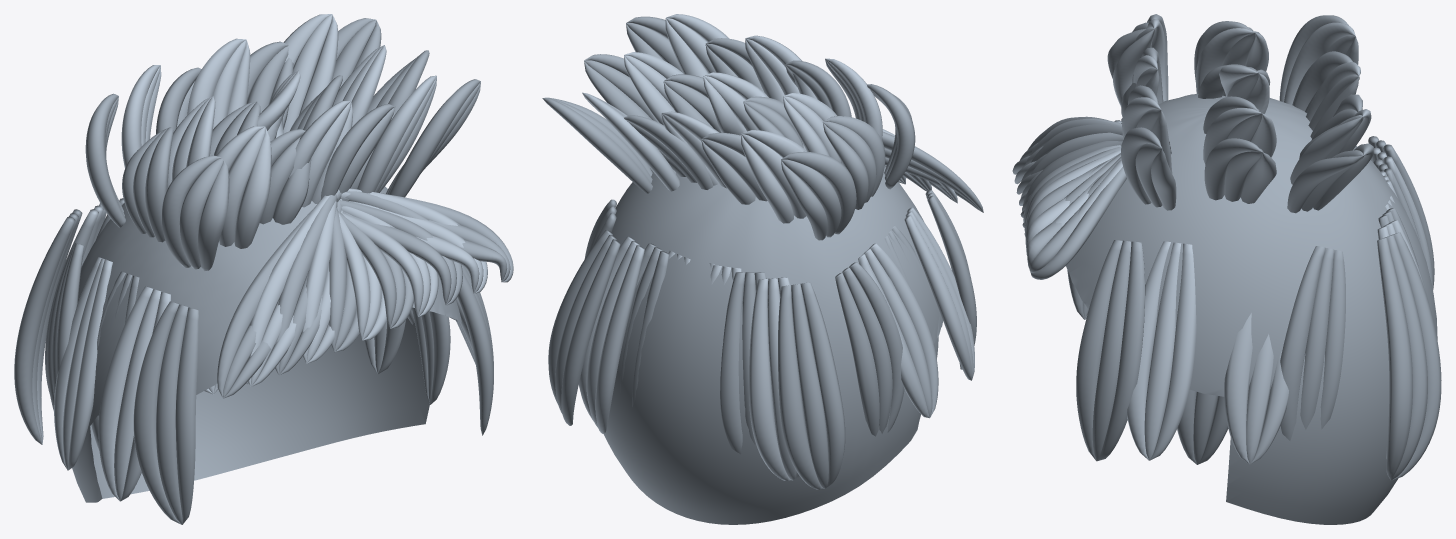
3 renders of one model, left to right at view 1: azimuth 30°, elevation 25°; view 2: azimuth 150°, elevation 25°; view 3: azimuth 270°, elevation 25°, orthographic. The views are drawn at different scales.
Parts seen in each view (by area): view 1: CrownHair_male_ref18, SideHair_-1_0_Strand2, BackHair_00_Strand0, SideHair_-1_0_Strand1, SideHair_-1_0_Strand0, SideHair_-1_1_Strand2, SideHair_-1_1_Strand1, SideHair_-1_3_Strand0, CrownHair_Spike_0_6_Strand0, FrontHair_Sweep_00_Strand2, SideHair_1_0_Strand2, CrownHair_Spike_2_0_Strand2 (+75 smaller); view 2: CrownHair_male_ref18, BackHair_00_Strand2, BackHair_01_Strand2, BackHair_00_Strand1, BackHair_00_Strand0, BackHair_07_Strand0, BackHair_08_Strand0, BackHair_02_Strand2, SideHair_-1_4_Strand2, SideHair_-1_1_Strand2, SideHair_-1_4_Strand1, SideHair_-1_4_Strand0 (+59 smaller); view 3: CrownHair_male_ref18, BackHair_08_Strand2, SideHair_1_0_Strand0, SideHair_1_1_Strand0, SideHair_1_0_Strand2, SideHair_1_1_Strand1, SideHair_1_0_Strand1, SideHair_1_4_Strand2, BackHair_08_Strand0, BackHair_08_Strand1, SideHair_1_4_Strand1, SideHair_1_1_Strand2 (+54 smaller).
Boxes of the visible parts, x1=… form: CrownHair_male_ref18: x1=72, y1=186, x2=461, y2=502; SideHair_-1_0_Strand2: x1=133, y1=301, x2=181, y2=524; BackHair_00_Strand0: x1=14, y1=216, x2=75, y2=444; SideHair_-1_0_Strand1: x1=156, y1=304, x2=188, y2=524; SideHair_-1_0_Strand0: x1=175, y1=307, x2=198, y2=524; SideHair_-1_1_Strand2: x1=98, y1=286, x2=153, y2=500; SideHair_-1_1_Strand1: x1=114, y1=289, x2=161, y2=501; SideHair_-1_3_Strand0: x1=68, y1=259, x2=112, y2=470; CrownHair_Spike_0_6_Strand0: x1=389, y1=79, x2=480, y2=197; FrontHair_Sweep_00_Strand2: x1=217, y1=192, x2=341, y2=397; SideHair_1_0_Strand2: x1=457, y1=272, x2=493, y2=435; CrownHair_Spike_2_0_Strand2: x1=85, y1=93, x2=125, y2=227; CrownHair_male_ref18: x1=603, y1=135, x2=942, y2=524; BackHair_00_Strand2: x1=778, y1=285, x2=824, y2=489; BackHair_01_Strand2: x1=749, y1=278, x2=792, y2=480; BackHair_00_Strand1: x1=791, y1=283, x2=828, y2=488; BackHair_00_Strand0: x1=800, y1=282, x2=845, y2=488; BackHair_07_Strand0: x1=595, y1=245, x2=644, y2=433; BackHair_08_Strand0: x1=561, y1=239, x2=620, y2=425; BackHair_02_Strand2: x1=720, y1=272, x2=745, y2=454; SideHair_-1_4_Strand2: x1=835, y1=272, x2=879, y2=436; SideHair_-1_1_Strand2: x1=904, y1=215, x2=972, y2=380; SideHair_-1_4_Strand1: x1=842, y1=267, x2=892, y2=433; SideHair_-1_4_Strand0: x1=849, y1=262, x2=904, y2=432; CrownHair_male_ref18: x1=1066, y1=94, x2=1437, y2=524; BackHair_08_Strand2: x1=1377, y1=237, x2=1412, y2=480; SideHair_1_0_Strand0: x1=1097, y1=241, x2=1145, y2=461; SideHair_1_1_Strand0: x1=1150, y1=243, x2=1196, y2=460; SideHair_1_0_Strand2: x1=1076, y1=240, x2=1122, y2=460; SideHair_1_1_Strand1: x1=1144, y1=242, x2=1181, y2=460; SideHair_1_0_Strand1: x1=1092, y1=240, x2=1131, y2=460; SideHair_1_4_Strand2: x1=1280, y1=246, x2=1325, y2=440; BackHair_08_Strand0: x1=1391, y1=232, x2=1441, y2=480; BackHair_08_Strand1: x1=1384, y1=235, x2=1427, y2=480; SideHair_1_4_Strand1: x1=1300, y1=248, x2=1333, y2=429; SideHair_1_1_Strand2: x1=1127, y1=241, x2=1170, y2=460.
Bounding box in the file's own units: 0.7786 × 0.8707 × 0.7359.
